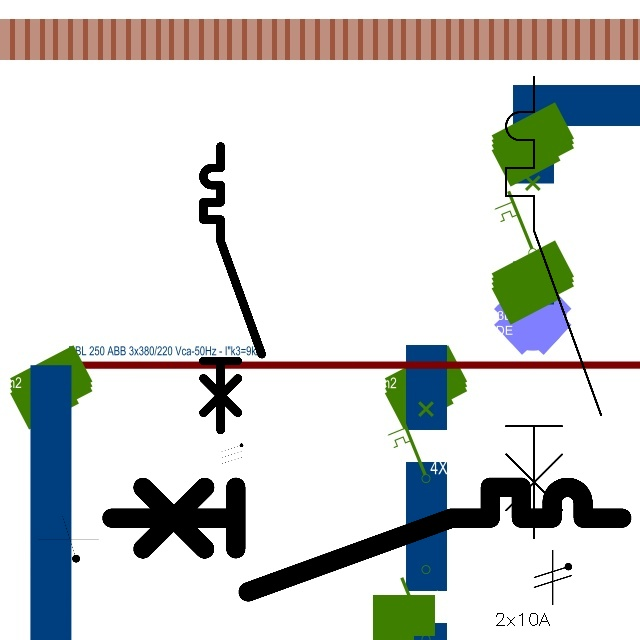interruptor_termomagnetico: (98, 474, 635, 605), (494, 65, 613, 550), (196, 139, 269, 437)
